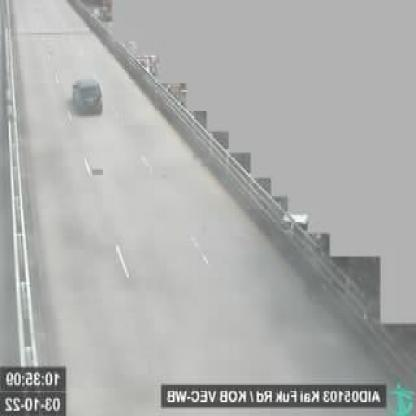Car: (74, 76, 104, 114)
